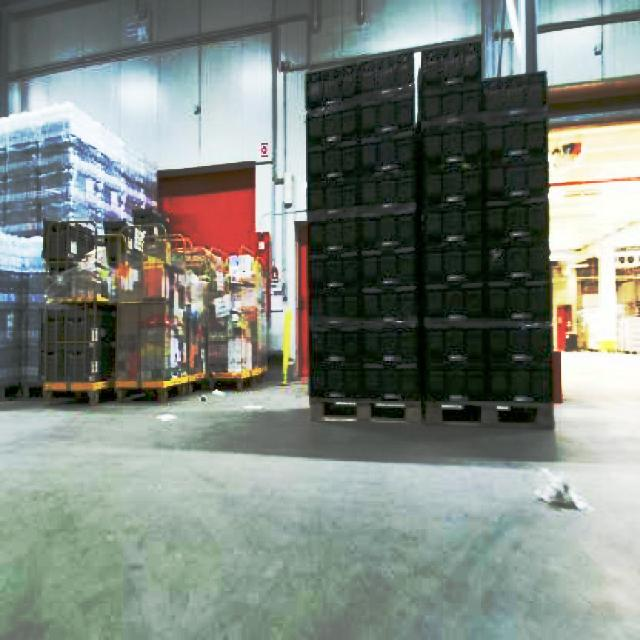ground: (0, 349, 638, 638)
pallet: (303, 35, 555, 429), (38, 215, 268, 405), (305, 46, 420, 425), (38, 297, 114, 405), (0, 265, 23, 405)
